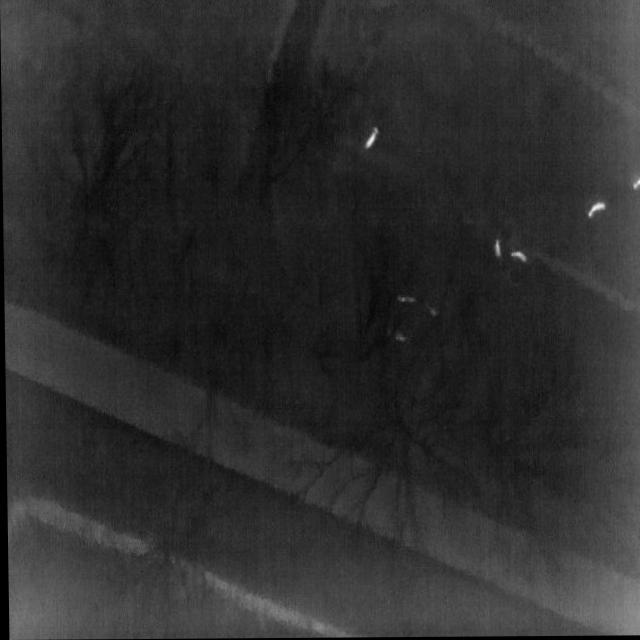deer: (363, 127, 379, 150), (586, 203, 606, 219), (510, 252, 526, 264), (395, 295, 416, 304), (493, 240, 501, 259), (632, 178, 640, 191)
